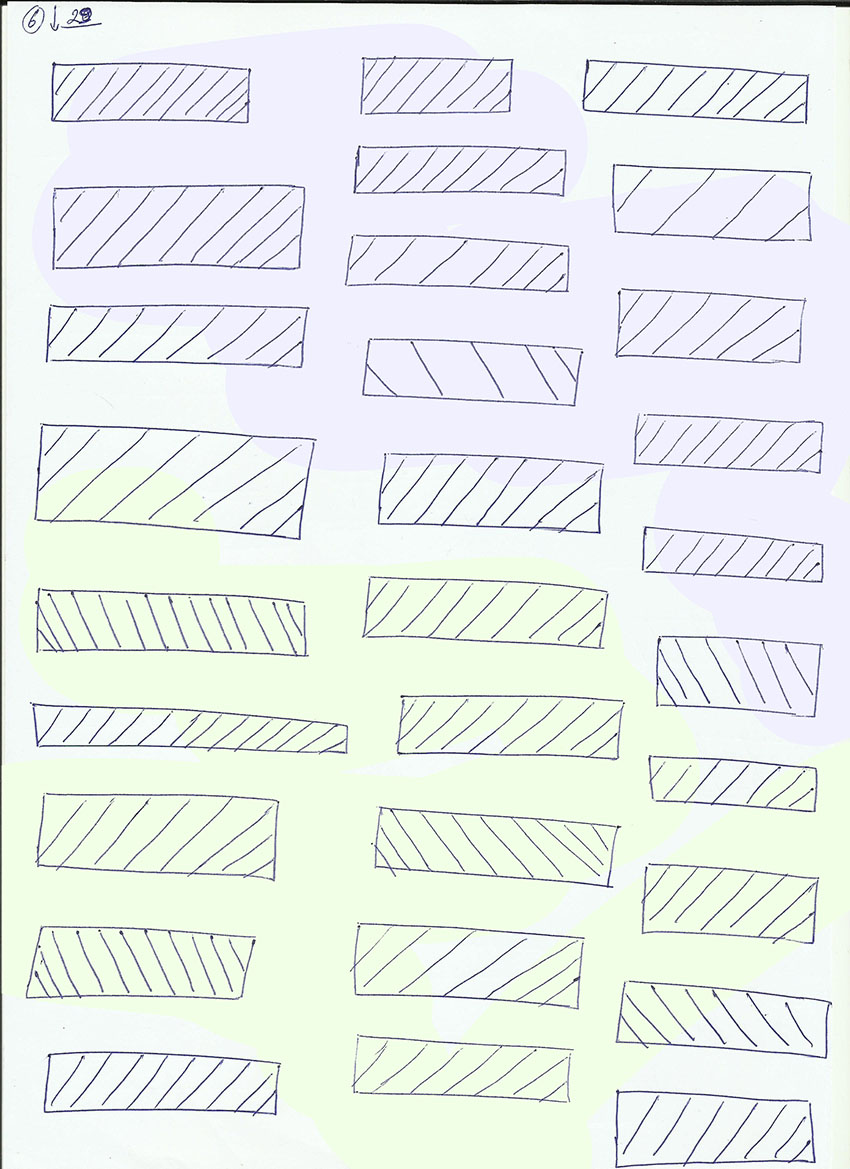frame: (30, 417, 318, 544), (49, 180, 307, 275), (32, 787, 283, 884), (368, 803, 621, 893), (32, 583, 313, 662), (350, 919, 587, 1011), (375, 447, 605, 538), (29, 697, 355, 761), (361, 572, 610, 654), (23, 921, 261, 1005), (613, 975, 836, 1062), (44, 300, 310, 372), (349, 1028, 579, 1111), (608, 159, 819, 248), (393, 690, 627, 766), (610, 1087, 825, 1169), (43, 1048, 283, 1121), (581, 53, 812, 128), (360, 335, 587, 410), (613, 283, 808, 368), (637, 858, 819, 949), (341, 231, 576, 298), (651, 633, 825, 722), (46, 58, 256, 127), (351, 142, 569, 202), (631, 411, 825, 475), (637, 521, 829, 585), (644, 750, 821, 816), (358, 54, 517, 119)
